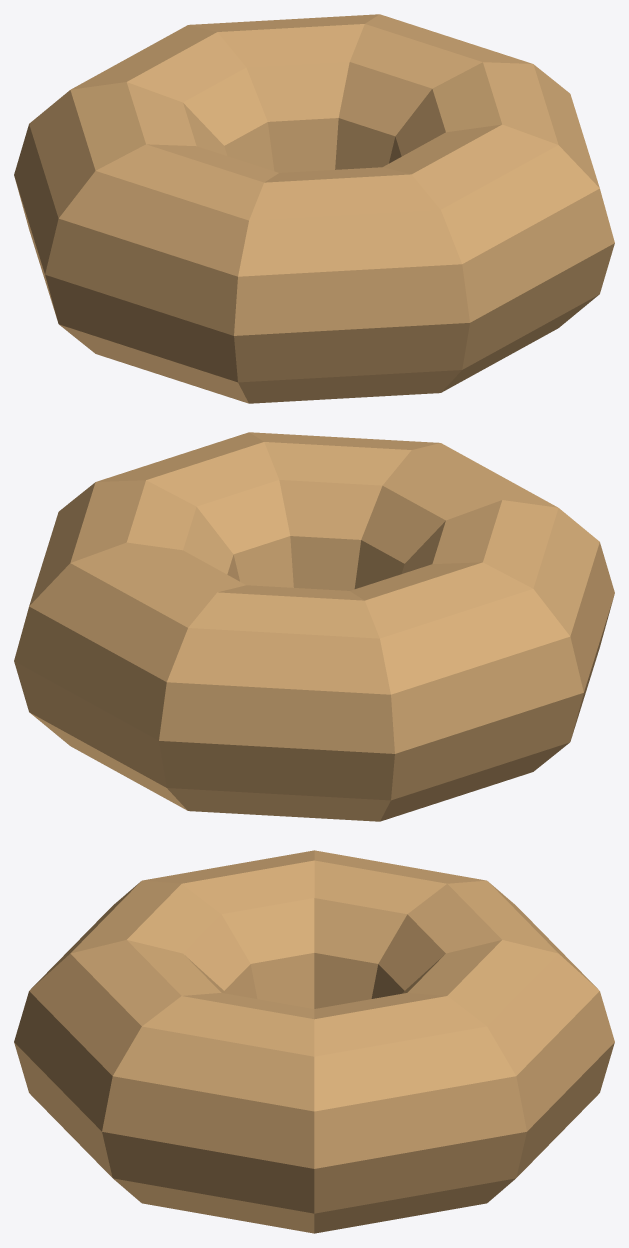
The model's file is Donut.fbx.
3 renders of one model, top to bottom at view 1: azimuth 30°, elevation 25°; view 2: azimuth 150°, elevation 25°; view 3: azimuth 270°, elevation 25°, orthographic. The views are drawn at different scales.
Parts seen in each view (by area): view 1: Donut; view 2: Donut; view 3: Donut.
Part boxes in pixels (box(x1,y1,x2,y2)): Donut: box(14, 14, 614, 403); Donut: box(14, 432, 614, 821); Donut: box(14, 850, 614, 1233).
Size of the model in its own units: 0.4 by 0.15 by 0.4.
1 material, 1 textured.
